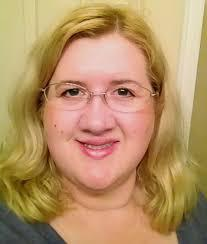strokeEyeWeak: (53, 76, 143, 108)
strokeMouthWeak: (73, 134, 121, 161)
